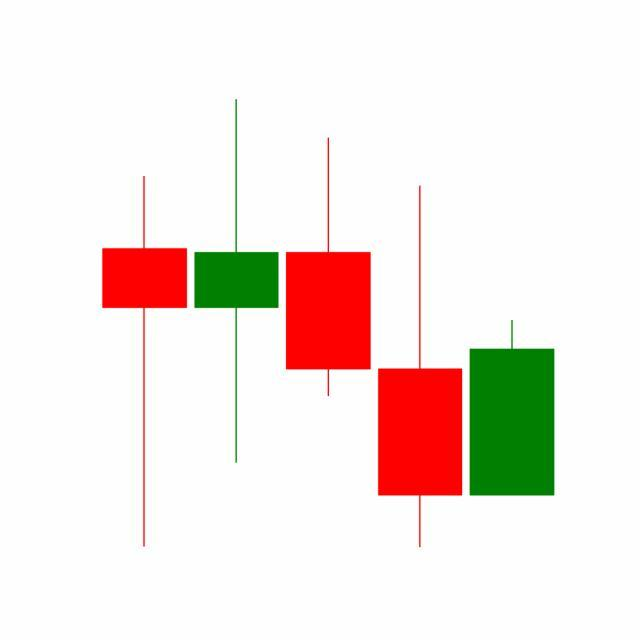Marubozu: (466, 318, 559, 498)
